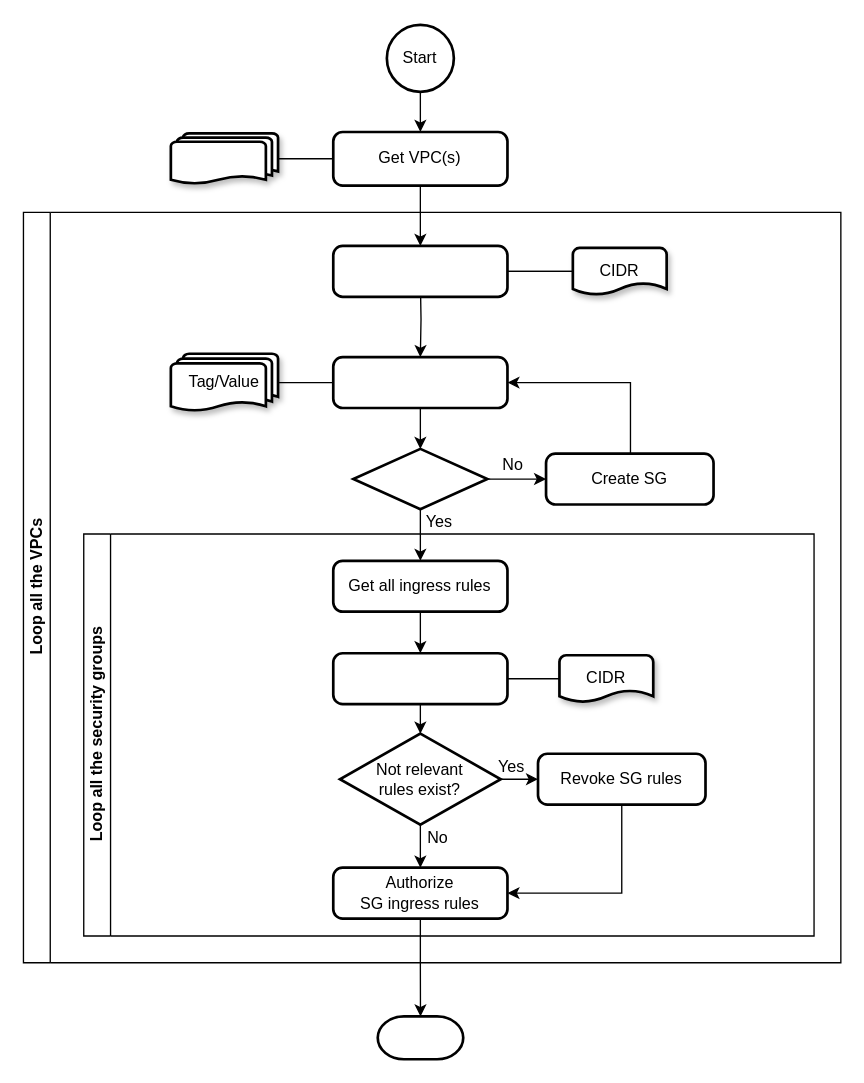
The diagram is 864 pixels wide and 1083 high, and some of its shapes have lost their labels. The shapes that lost their labels are listed below. From the top down, each one's centre as x and y in pixels, then its label:
(x=225, y=160): VPC
(x=419, y=270): Discover my public IP
(x=419, y=382): Get relevant SG(s)
(x=419, y=478): SG Exists?
(x=419, y=678): Extract not relevant ingress rules
(x=420, y=1037): End
